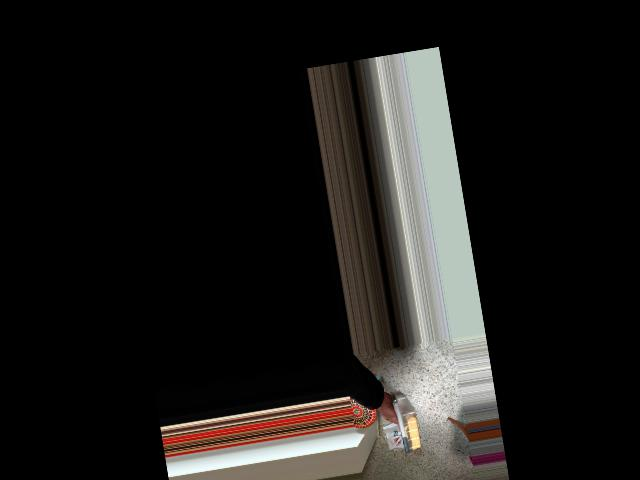cheese: (379, 391, 429, 457)
